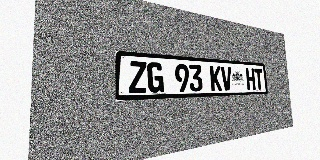3: (189, 64, 203, 92)
9: (175, 64, 189, 92)
G: (147, 62, 164, 93)
H: (246, 68, 256, 90)
K: (210, 66, 222, 91)
T: (254, 68, 263, 90)
V: (221, 66, 232, 91)
Z: (129, 61, 147, 93)
